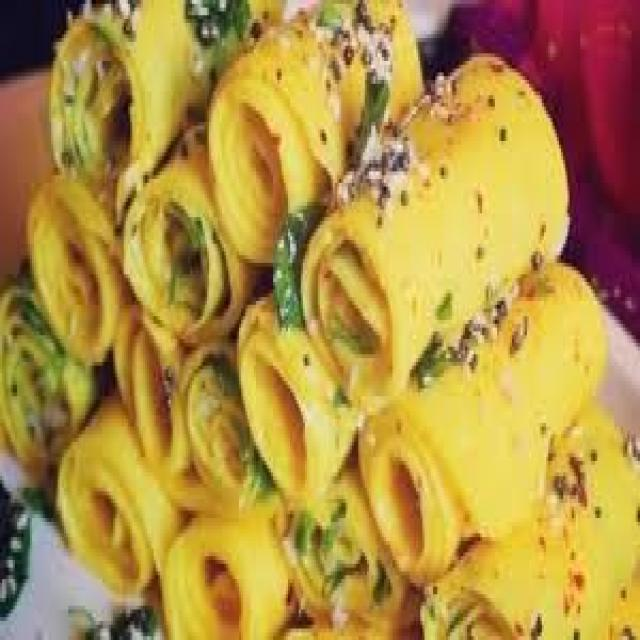DHOKLA: (0, 0, 638, 636)
